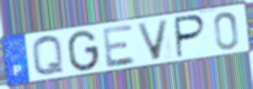0: (212, 10, 241, 51)
E: (101, 22, 138, 69)
G: (67, 29, 101, 73)
P: (175, 14, 208, 60)
Q: (30, 34, 67, 79)
V: (135, 18, 171, 62)
